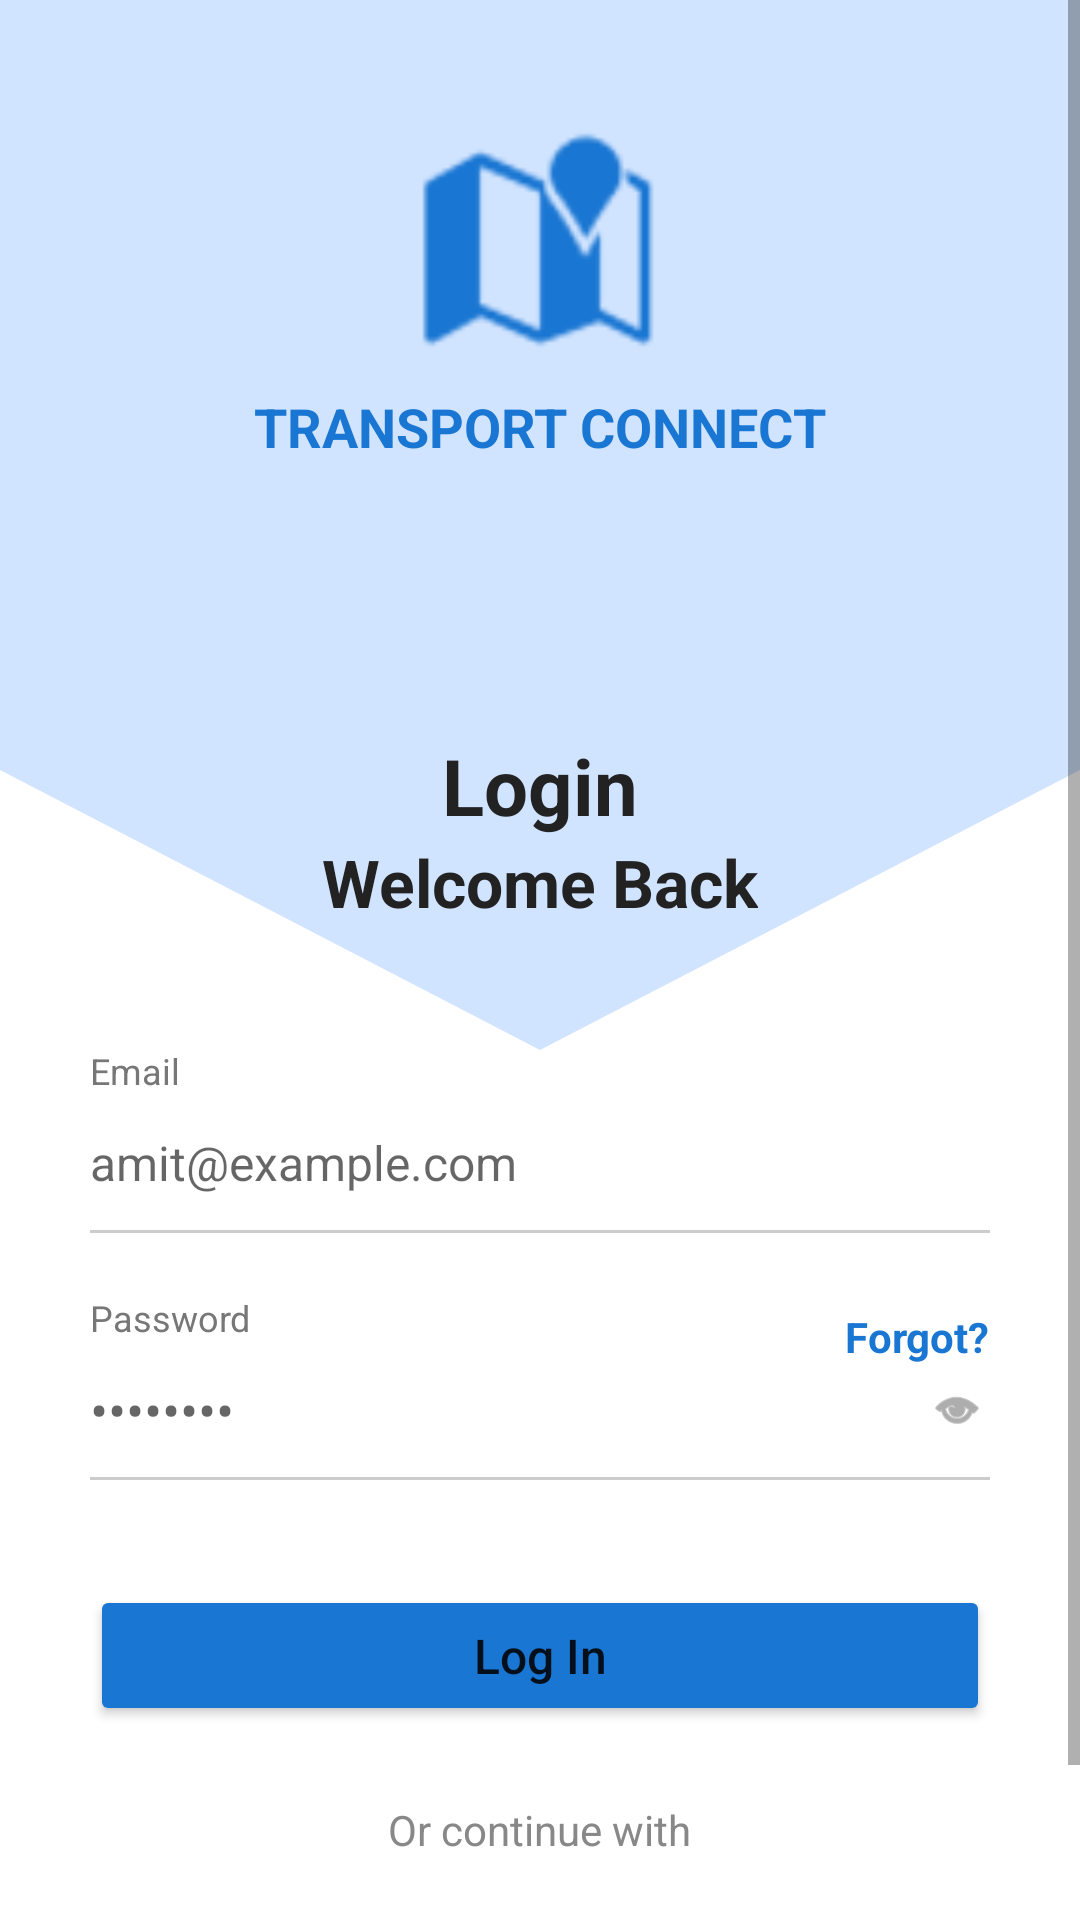

Icons on this 1080 × 1920 Android screen, each with its box as (x1, y1, x2, y2):
map: (423, 134, 653, 346)
view: (935, 1397, 979, 1424)
